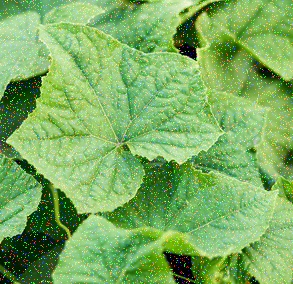cucumber_plant: (15, 18, 279, 284)
